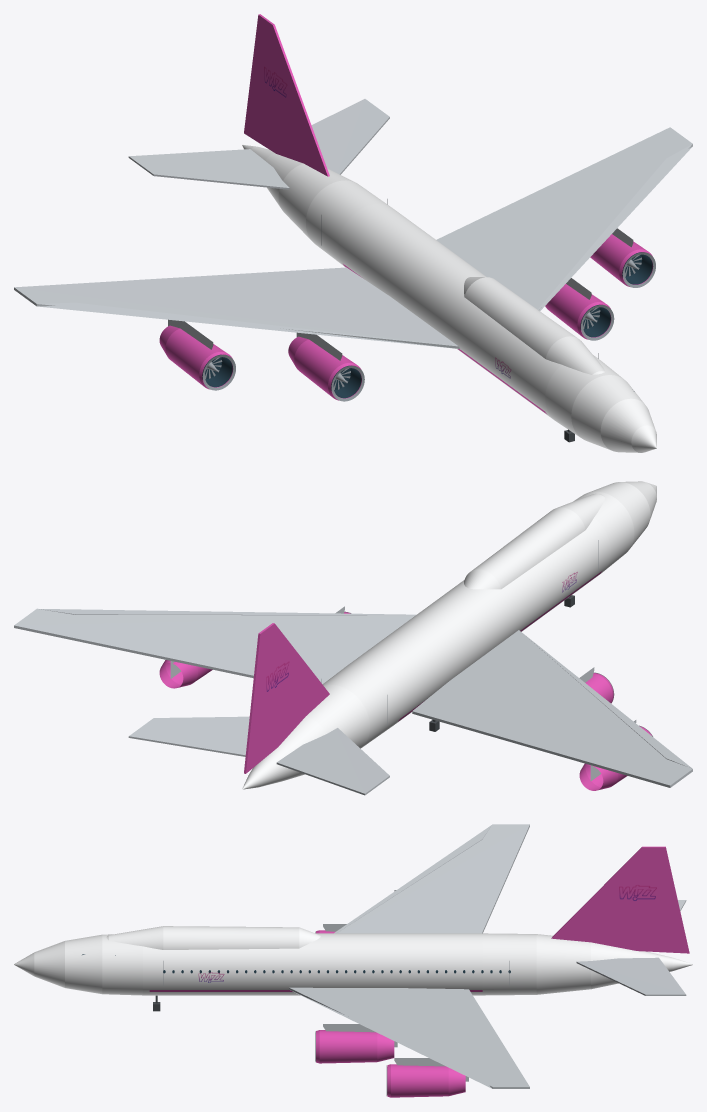
File: b747-WZZ-v3.gltf
3 renders of one model, top to bottom at view 1: azimuth 30°, elevation 25°; view 2: azimuth 150°, elevation 25°; view 3: azimuth 270°, elevation 25°, orthographic. The views are drawn at different scales.
Parts seen in each view (by area): view 1: object 1; view 2: object 1; view 3: object 1.
Part boxes in pixels (<box>): object 1: <box>14,14,692,452</box>; object 1: <box>14,481,692,795</box>; object 1: <box>14,824,692,1097</box>.
Size of the model in its own units: 65 by 19.04 by 71.
Materials: 8 (1 with a texture image).
